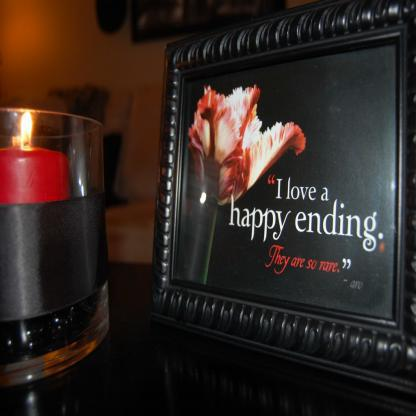Picture-frame: (151, 1, 416, 392)
